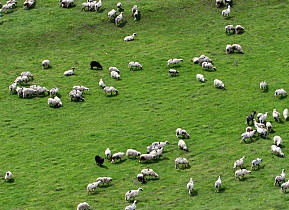sheep: (121, 184, 145, 201), (241, 130, 262, 146), (140, 151, 161, 166), (255, 124, 273, 140), (269, 167, 285, 185), (83, 178, 103, 192), (171, 153, 189, 168), (21, 85, 37, 101), (253, 110, 269, 126), (148, 138, 169, 150), (246, 157, 261, 173), (115, 13, 130, 29), (63, 66, 80, 80), (269, 132, 283, 149), (95, 176, 116, 187), (273, 85, 289, 99), (137, 167, 157, 178), (229, 155, 249, 166), (213, 174, 225, 192), (185, 177, 197, 195), (212, 76, 227, 90), (105, 69, 124, 80), (174, 139, 190, 152), (243, 109, 259, 122), (122, 33, 139, 45), (192, 53, 212, 63), (270, 144, 282, 160), (201, 62, 218, 73), (68, 83, 91, 91), (175, 126, 190, 138), (71, 199, 87, 210), (36, 84, 47, 100), (69, 90, 85, 101), (165, 56, 184, 65), (87, 60, 104, 70), (220, 5, 233, 18), (106, 8, 119, 21), (94, 77, 108, 89), (124, 59, 142, 68), (5, 168, 15, 184), (271, 108, 281, 124), (22, 1, 42, 9), (194, 72, 207, 84), (222, 24, 234, 37), (50, 96, 61, 110), (12, 76, 31, 84), (21, 71, 40, 79), (48, 85, 61, 96), (131, 4, 140, 19), (106, 84, 117, 96), (233, 25, 245, 36), (225, 43, 235, 56), (107, 64, 121, 73), (166, 66, 180, 75), (232, 42, 243, 53), (81, 1, 93, 11), (5, 1, 15, 13), (258, 79, 267, 92), (41, 58, 52, 68), (115, 1, 128, 9), (59, 1, 76, 7), (126, 199, 135, 210), (93, 1, 101, 12), (281, 106, 289, 116)
